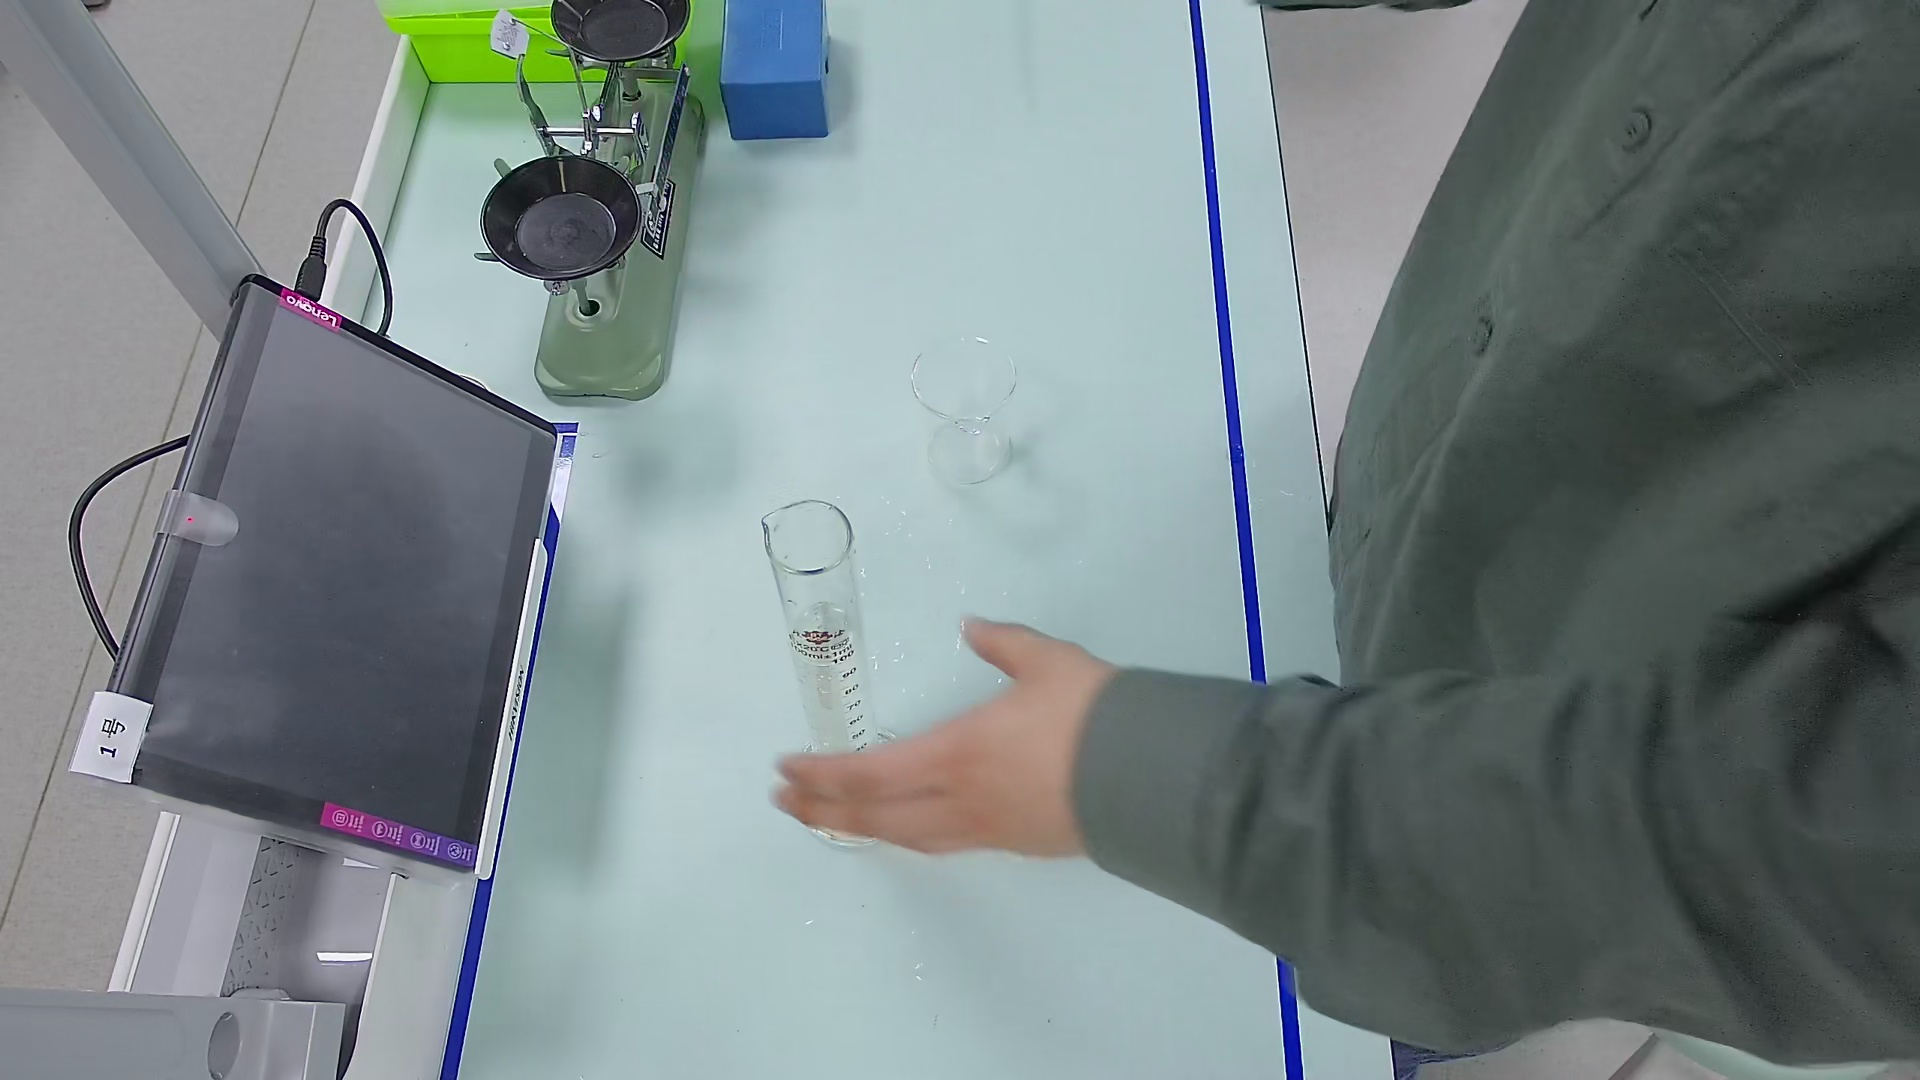bei: (909, 324, 1021, 487)
hand: (786, 654, 1096, 891)
liangdi: (791, 735, 914, 858)
liangtong: (766, 502, 924, 847)
tuo: (487, 153, 645, 285), (542, 1, 694, 69)
